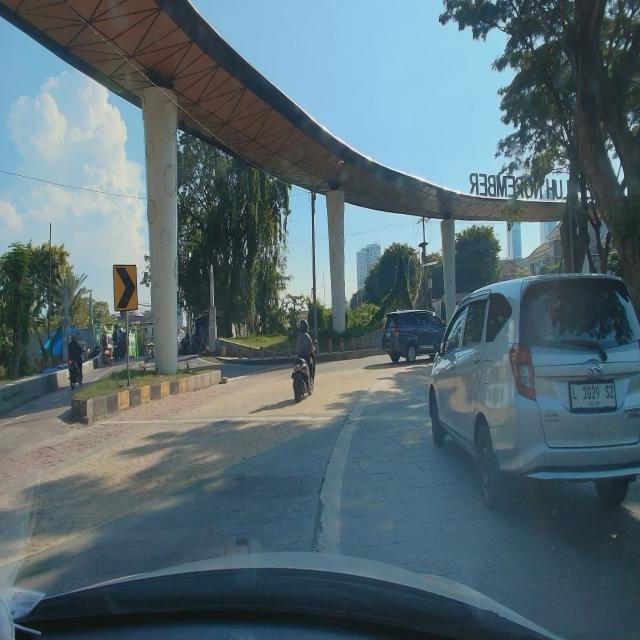car: (427, 266, 640, 509)
license-plate: (568, 378, 617, 416)
